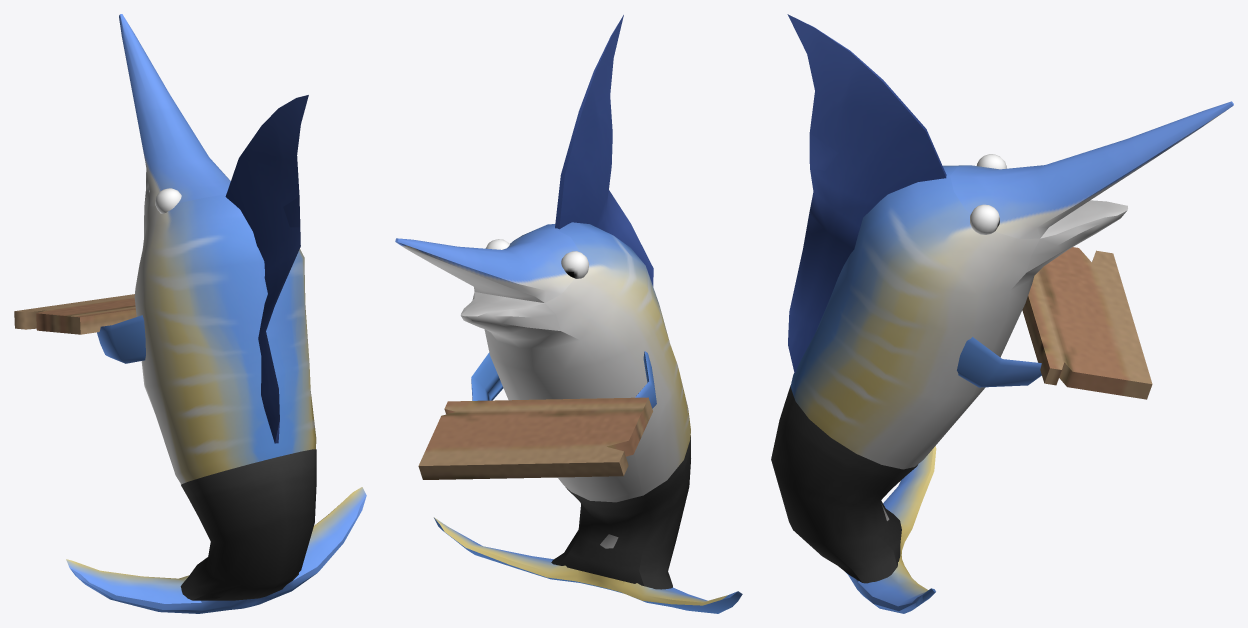
Rendered from kajiki_walk_c_07.fbx.
The picture shows the model from 3 angles, left to right: view 1: azimuth 30°, elevation 25°; view 2: azimuth 150°, elevation 25°; view 3: azimuth 270°, elevation 25°; orthographic projection. The views are drawn at different scales.
Parts seen in each view (by area): view 1: W_c_07; view 2: W_c_07; view 3: W_c_07.
Boxes of the visible parts, x1=… form: W_c_07: x1=14, y1=14, x2=366, y2=613; W_c_07: x1=395, y1=15, x2=742, y2=613; W_c_07: x1=771, y1=14, x2=1233, y2=613.
Bounding box in the file's own units: 1.44 × 2.45 × 1.79.
Materials: 1 (1 with a texture image).
